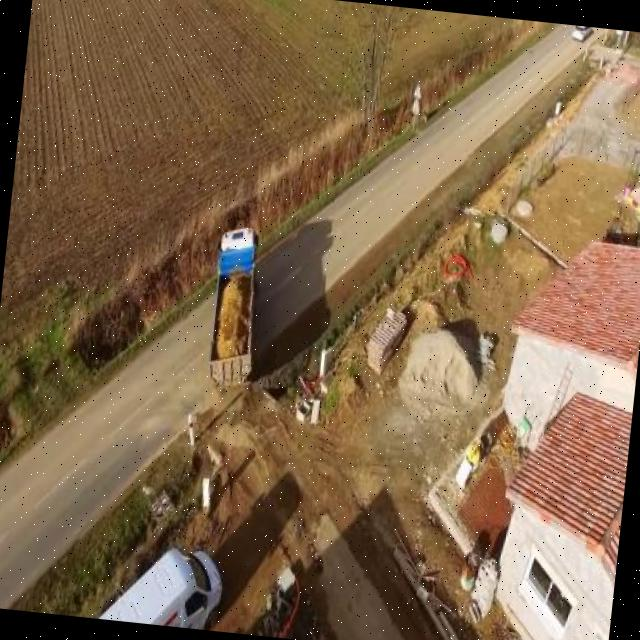Dump Truck: (200, 220, 267, 394)
